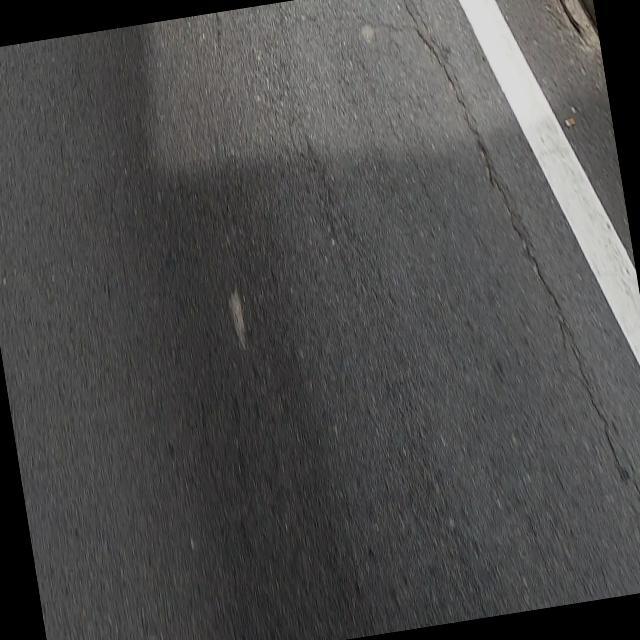Retak-Memanjang: (415, 32, 630, 486)
